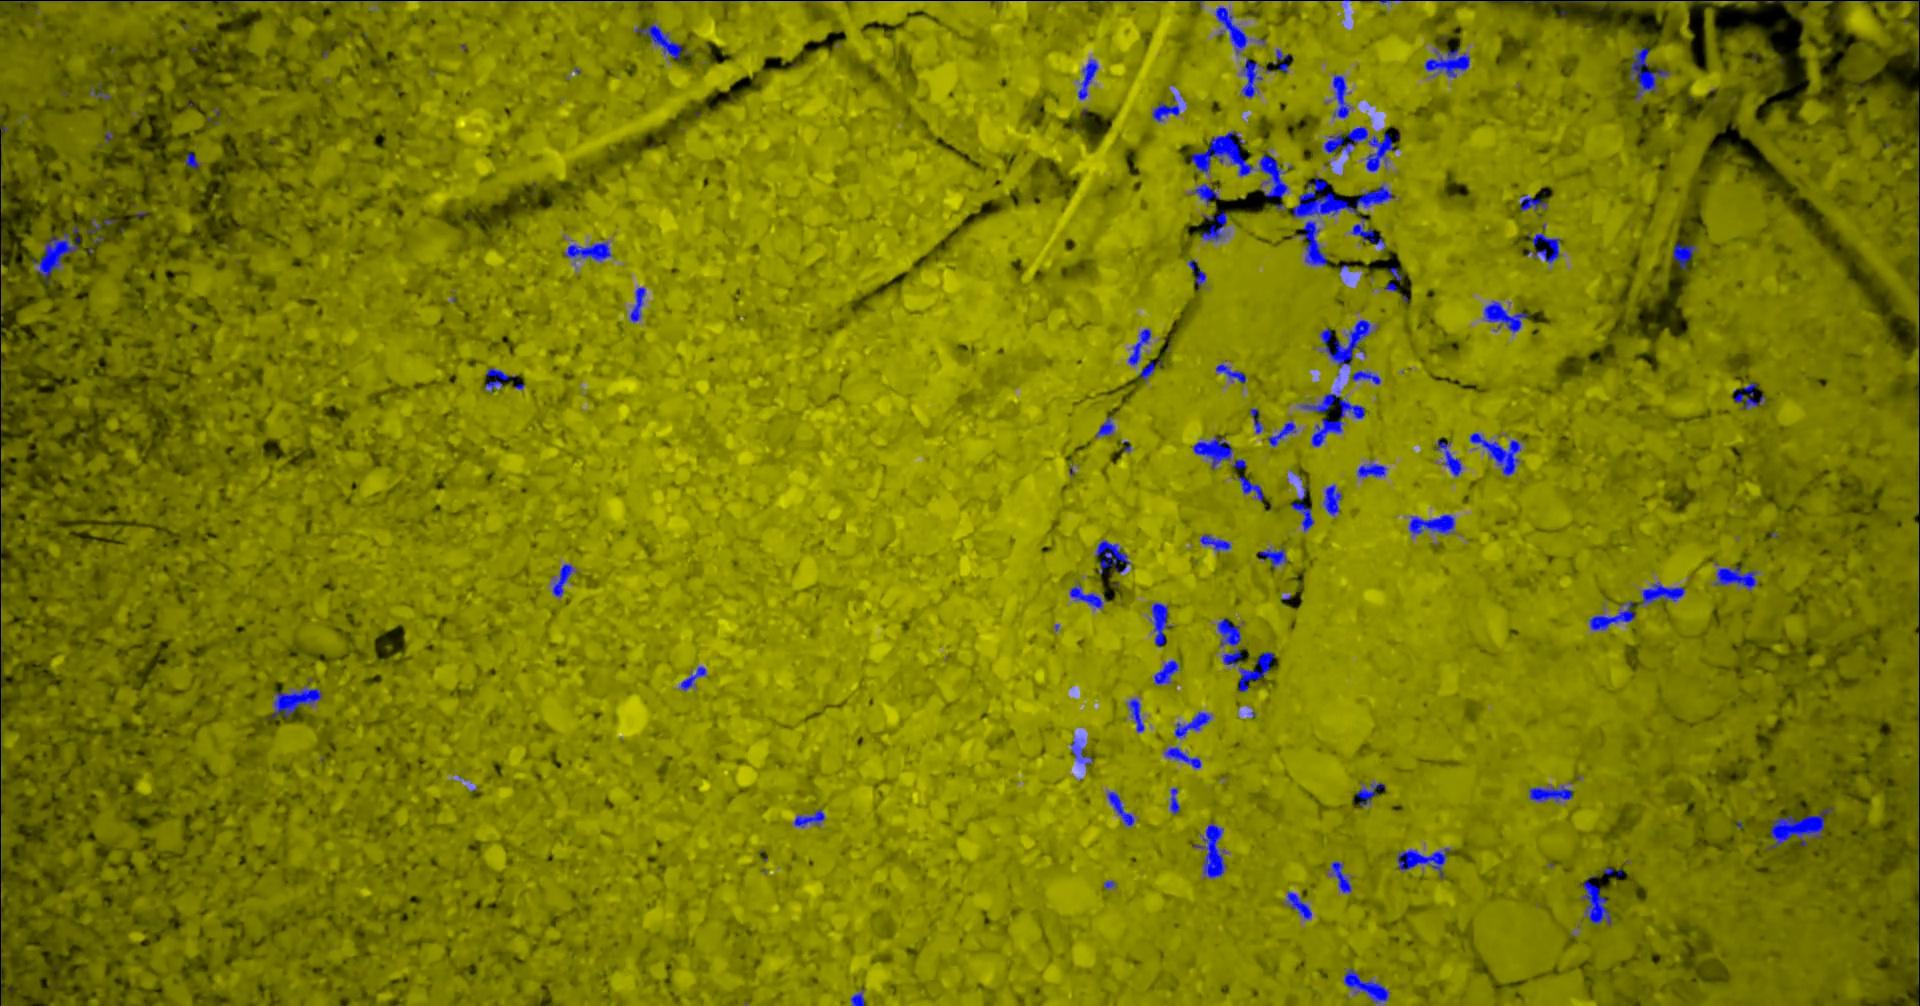ant: (1590, 582, 1686, 630), (1302, 387, 1366, 446), (33, 226, 81, 282), (1321, 319, 1371, 367), (1470, 432, 1523, 475), (1630, 47, 1671, 100), (636, 22, 693, 58), (1194, 822, 1228, 878), (1345, 967, 1390, 1005), (1260, 154, 1290, 210), (273, 683, 323, 716), (1398, 847, 1451, 878), (1217, 6, 1250, 55), (1582, 875, 1613, 926), (1484, 300, 1530, 332), (1426, 46, 1470, 77), (1194, 434, 1234, 469), (1302, 220, 1330, 265), (1716, 561, 1759, 589), (1097, 539, 1131, 573), (1291, 484, 1316, 531), (1352, 216, 1387, 249), (1150, 602, 1175, 647), (1070, 582, 1109, 608), (1528, 232, 1561, 263), (1410, 514, 1457, 535), (565, 241, 615, 260), (1437, 439, 1463, 476), (1176, 711, 1213, 737), (1735, 381, 1768, 409), (1109, 791, 1135, 826), (1129, 328, 1153, 365), (1164, 746, 1203, 768), (1242, 58, 1263, 98), (1079, 58, 1100, 99), (1335, 72, 1352, 118), (1153, 93, 1181, 121), (1203, 211, 1228, 241), (552, 563, 575, 596), (1288, 890, 1313, 920), (486, 367, 517, 391), (1530, 785, 1575, 801), (1330, 860, 1352, 892), (1269, 420, 1297, 446), (1357, 782, 1387, 807), (1672, 241, 1697, 269), (1217, 363, 1248, 384), (1239, 475, 1265, 500), (681, 666, 707, 690), (1192, 183, 1220, 206), (1156, 661, 1181, 685), (1201, 533, 1233, 553), (1260, 546, 1289, 567), (631, 287, 648, 323), (1189, 259, 1208, 290), (1324, 484, 1343, 514), (1072, 741, 1095, 766), (795, 808, 825, 827), (1129, 699, 1145, 732), (1140, 359, 1164, 381), (88, 215, 116, 232), (1274, 48, 1294, 72), (1357, 462, 1388, 478), (1521, 194, 1549, 210), (1097, 415, 1116, 437), (1352, 370, 1382, 384), (1251, 406, 1265, 433), (91, 83, 112, 99), (1171, 788, 1181, 813), (185, 152, 202, 168), (852, 988, 866, 1005), (1486, 0, 1658, 1), (1919, 741, 1920, 892), (1233, 459, 1248, 467), (1919, 236, 1920, 298), (1919, 131, 1920, 185), (1, 916, 3, 969)
